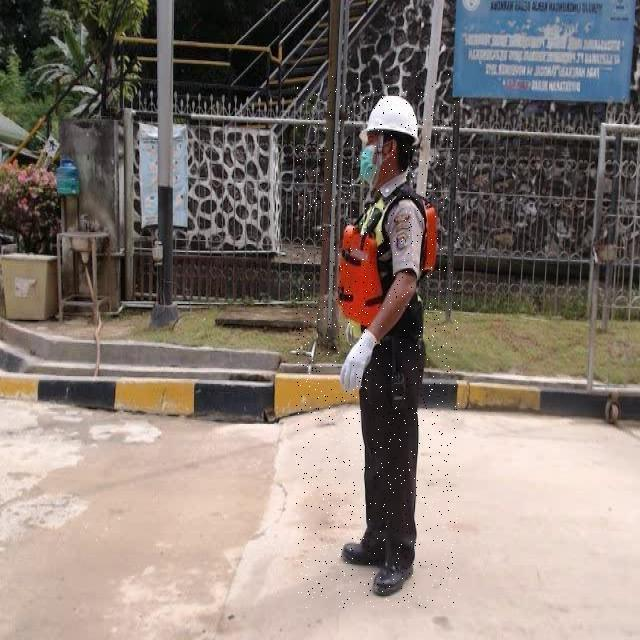helmet: (356, 92, 419, 145)
safety_vest: (333, 189, 433, 339)
